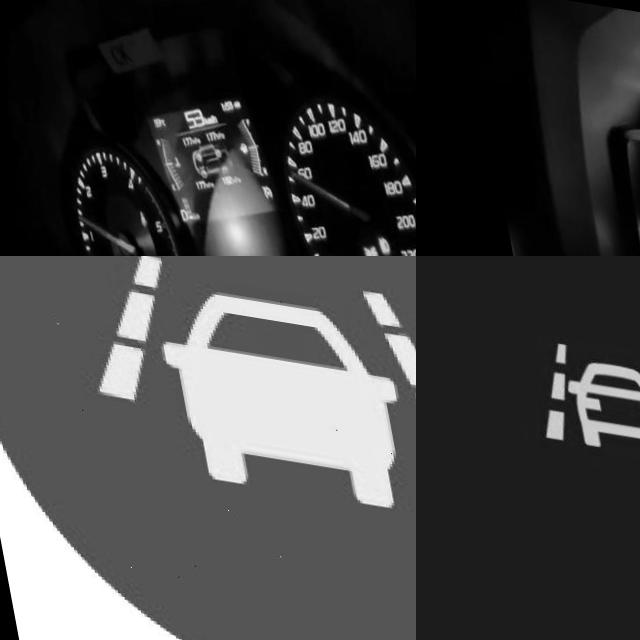Seat Belt: (126, 200, 136, 219)
